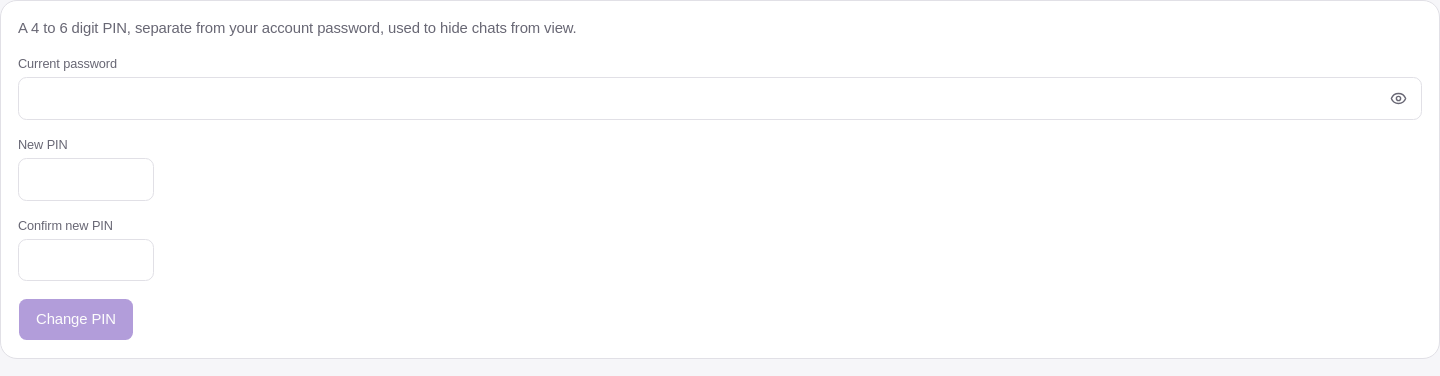
HiddenChatsPinForm › shows a "PIN changed" success panel when updating an existing PIN
Type "currentpass" into the password field labelled "Current password" at (720, 99), box [18,78,1422,120]
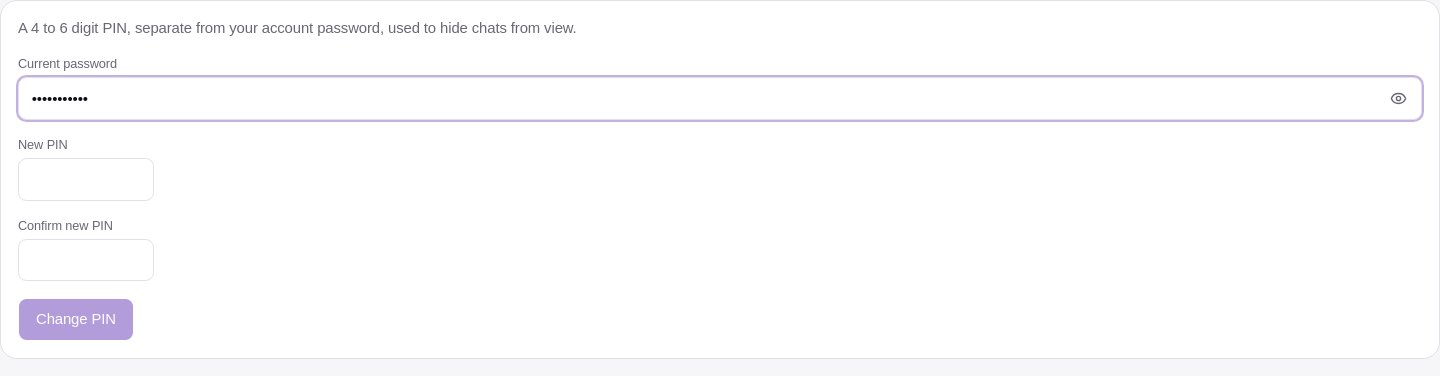
Type "4321" into the password field labelled "New PIN" at (86, 179), box [18,158,154,201]
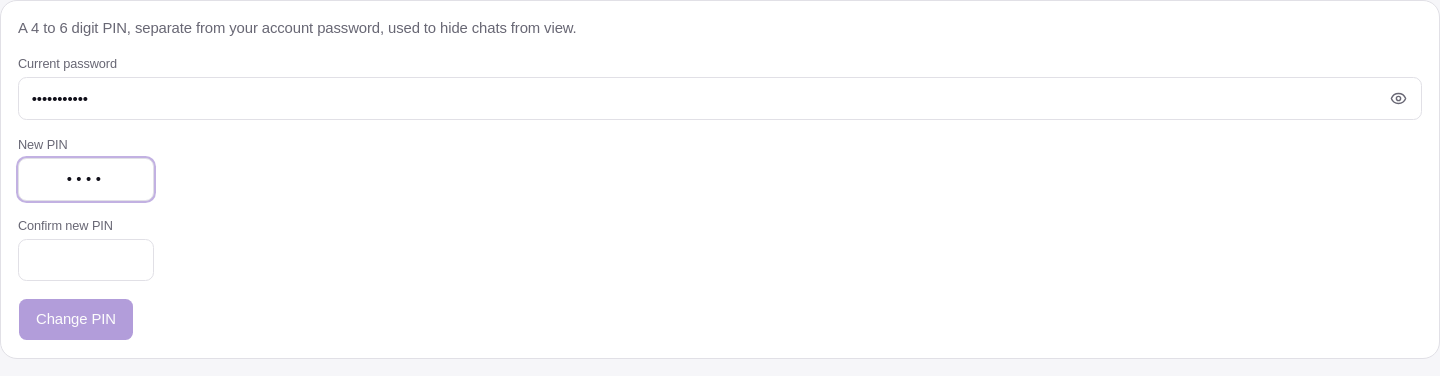
Type "4321" into the password field labelled "Confirm new PIN" at (86, 260), box [18,239,154,282]
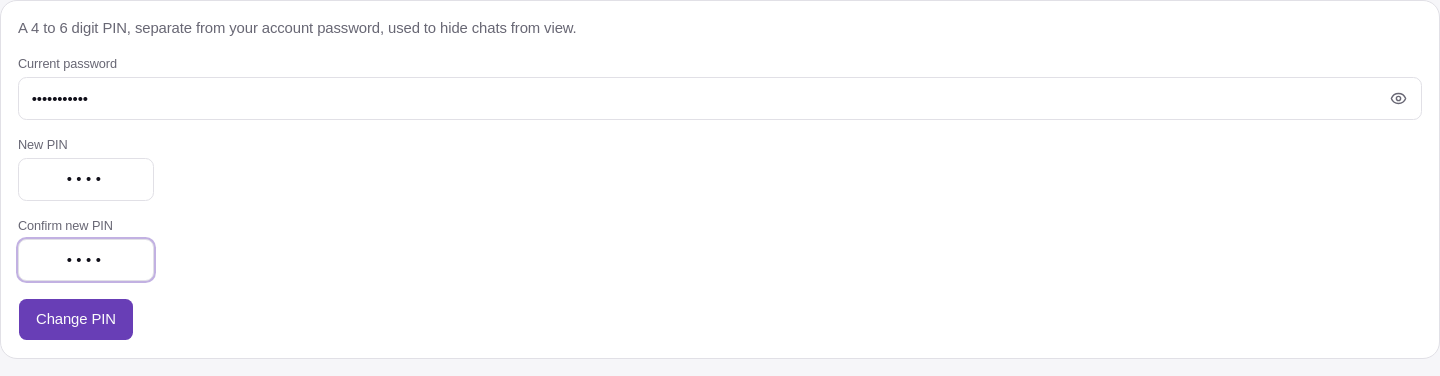
Click the button "Change PIN" at (76, 320), box [18,298,134,341]
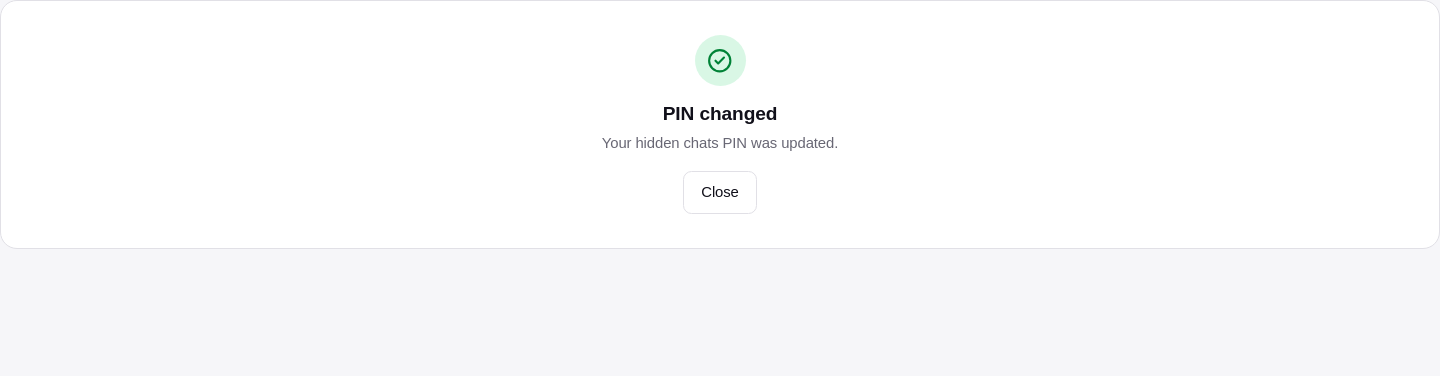
Check: the text "PIN changed" is shown, box [663,103,777,124]
